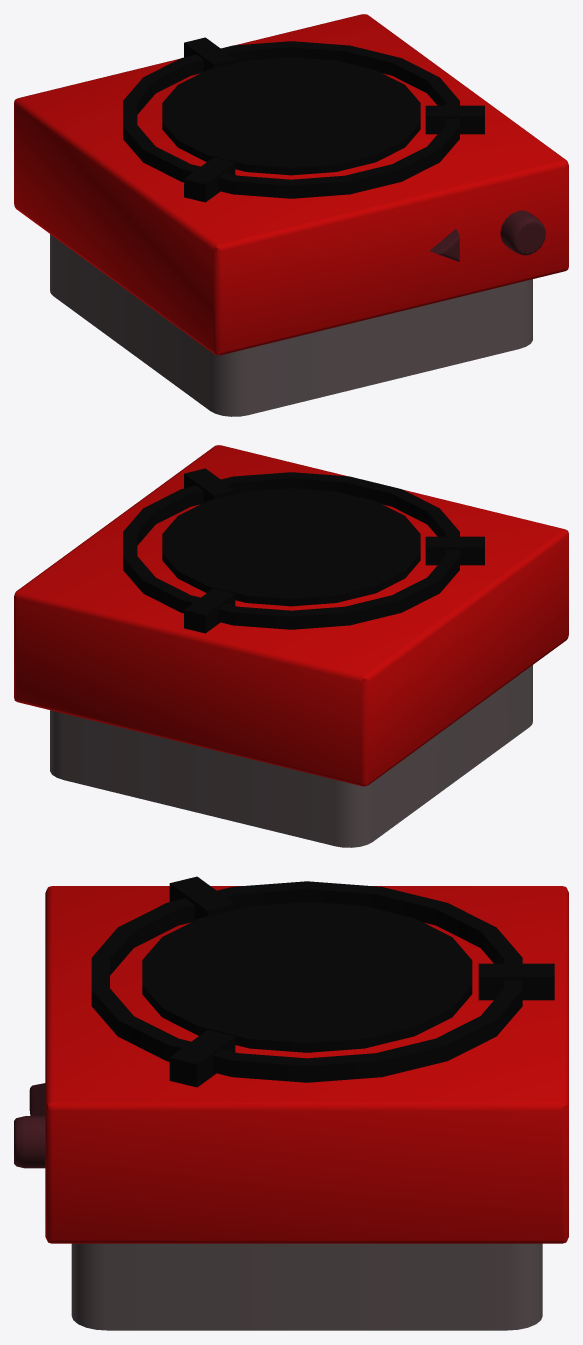
The model's file is Cooker.glb.
3 renders of one model, top to bottom at view 1: azimuth 30°, elevation 25°; view 2: azimuth 150°, elevation 25°; view 3: azimuth 270°, elevation 25°, orthographic. The views are drawn at different scales.
Visible parts, largest first — view 1: Cooker; view 2: Cooker; view 3: Cooker.
Part boxes in pixels (<box>): Cooker: <box>14,14,568,416</box>; Cooker: <box>14,445,568,847</box>; Cooker: <box>14,876,568,1330</box>.
Size of the model in its own units: 1 by 0.549 by 1.06.
